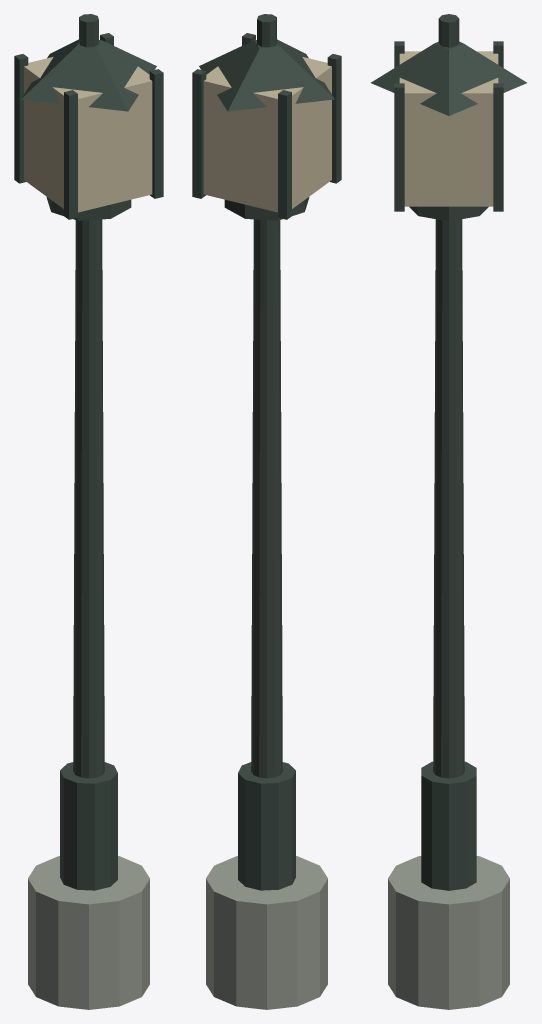
The model's file is SM_QD_StreetPark_HeritageLamp.fbx.
3 renders of one model, left to right at view 1: azimuth 30°, elevation 25°; view 2: azimuth 150°, elevation 25°; view 3: azimuth 270°, elevation 25°, orthographic.
Visible parts, largest first — view 1: SM_QD_StreetPark_HeritageLamp; view 2: SM_QD_StreetPark_HeritageLamp; view 3: SM_QD_StreetPark_HeritageLamp.
Part boxes in pixels (x1,y1,x2,y2): SM_QD_StreetPark_HeritageLamp: (14, 14, 163, 1009); SM_QD_StreetPark_HeritageLamp: (192, 14, 341, 1009); SM_QD_StreetPark_HeritageLamp: (371, 14, 526, 1009).
Bounding box in the file's own units: 0.54 × 0.54 × 3.66.
